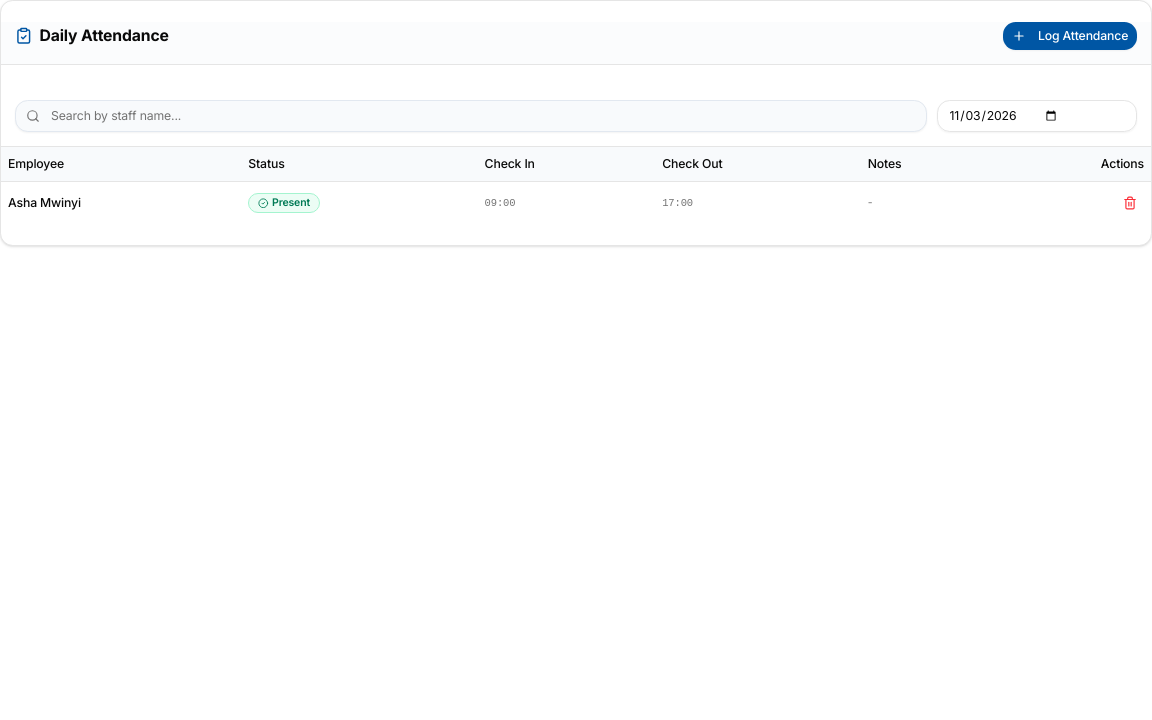
Test: HRAttendanceSubtab › submits a new present-day record and prepends it to the list
The image size is (1152, 720).
Click the button "Log Attendance". click: {"x": 1070, "y": 36}
box: [1003, 22, 1137, 50]
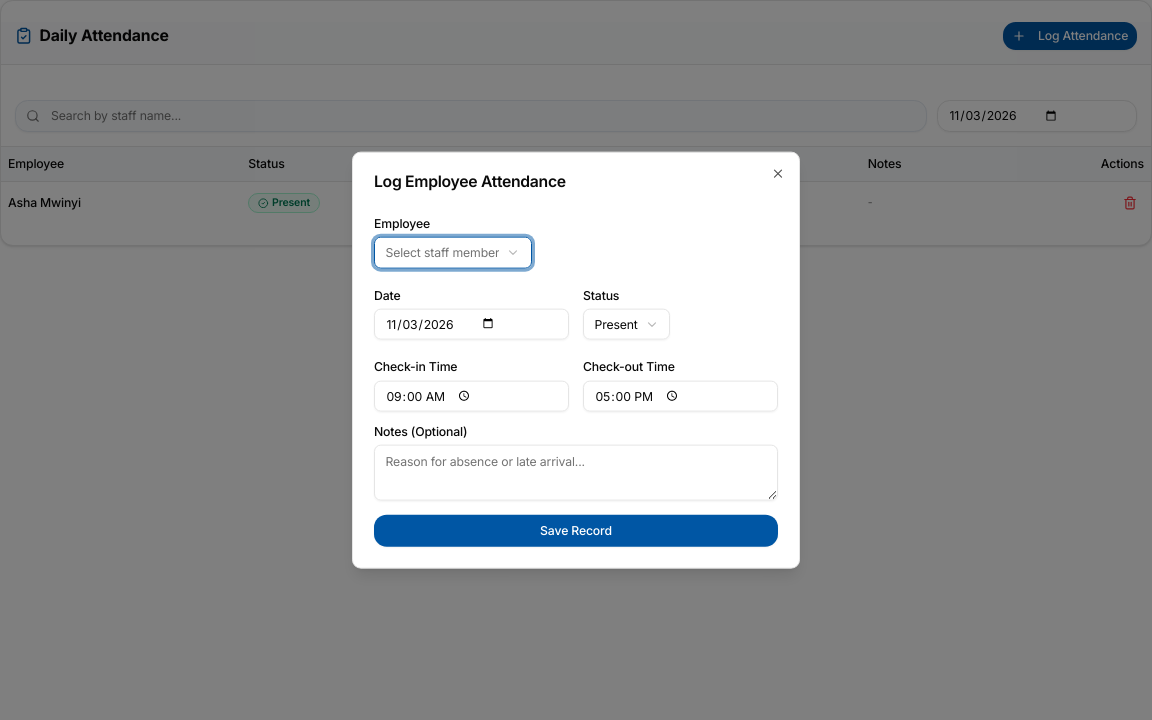
Click the dropdown labelled "Select staff member". click: {"x": 453, "y": 252}
box: [374, 237, 532, 268]
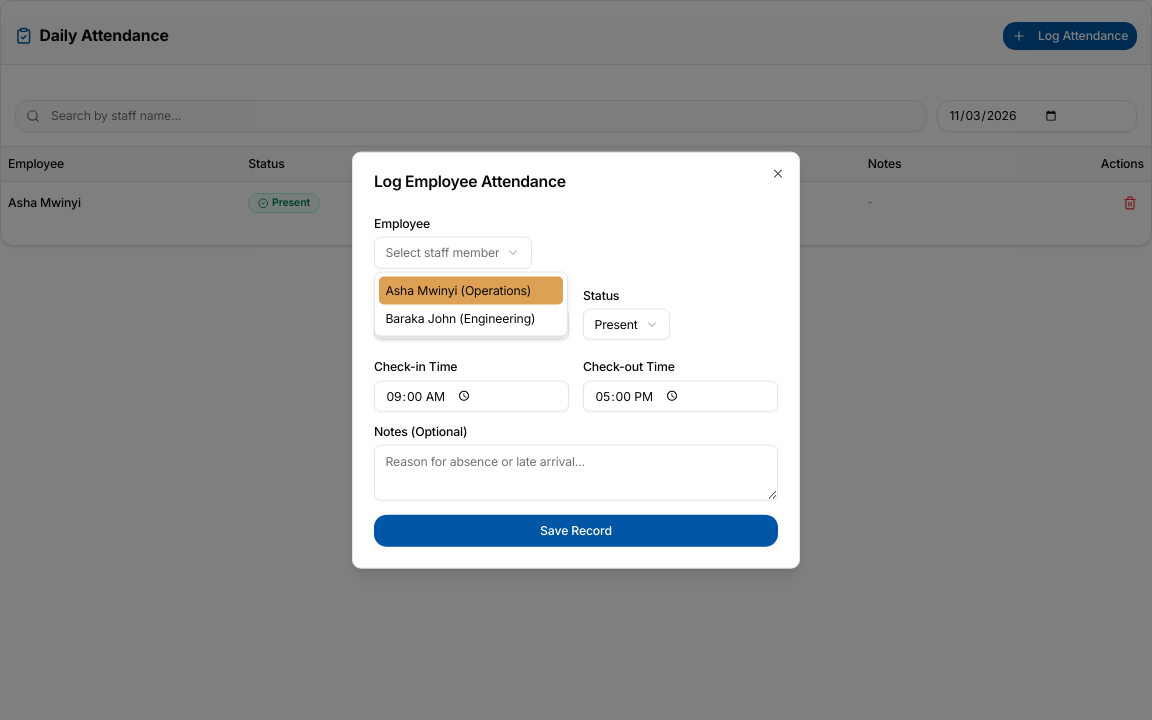
Click the option "Baraka John (Engineering)". click: {"x": 460, "y": 318}
box: [386, 310, 535, 325]
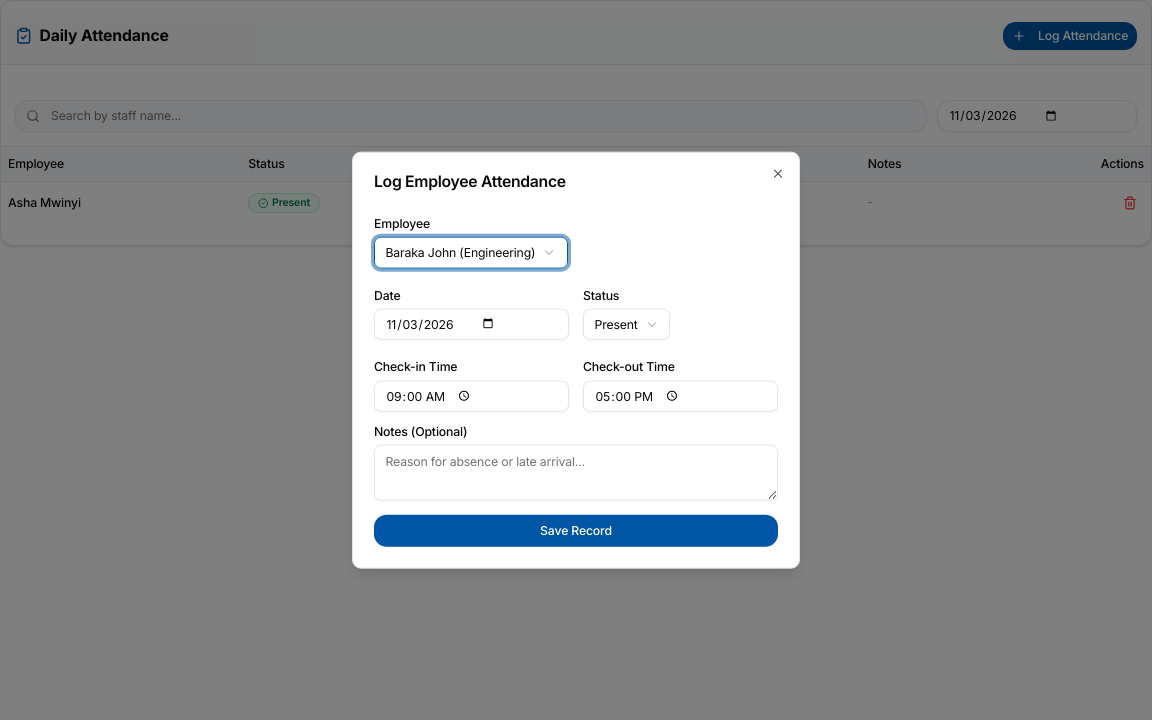
Click the button "Save Record". click: {"x": 576, "y": 531}
box: [374, 515, 778, 546]
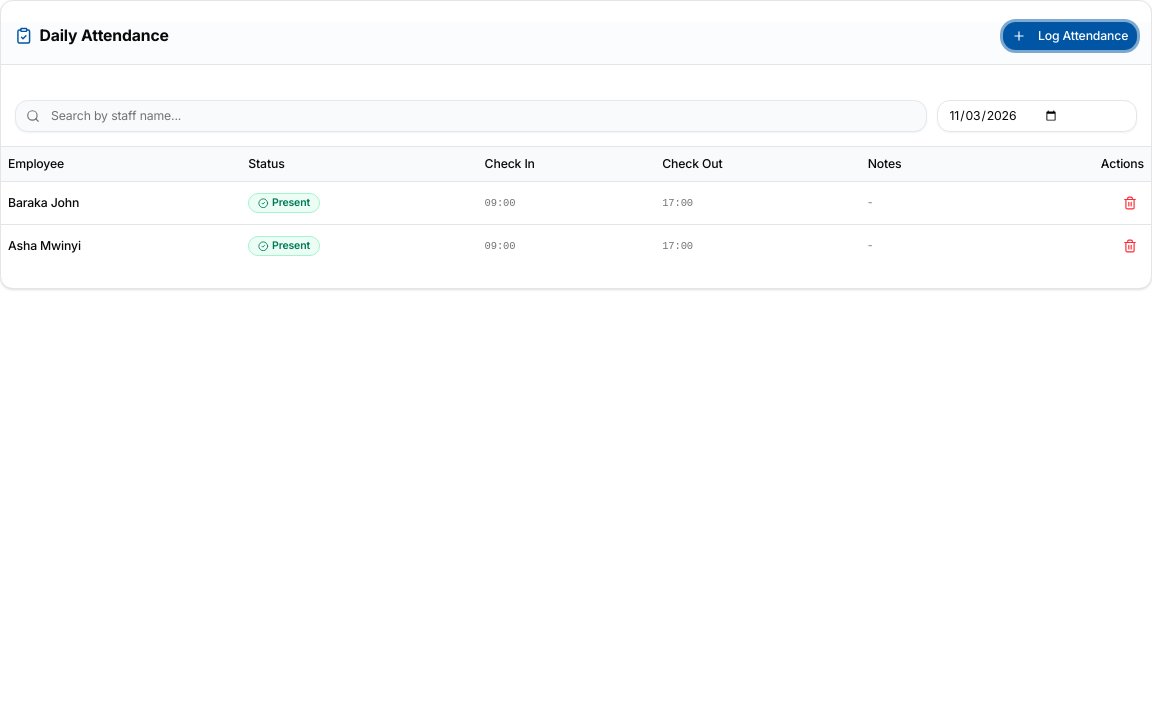
Check: the text "Baraka John" is shown, box [1, 182, 241, 224]
Check: the dialog is gone
